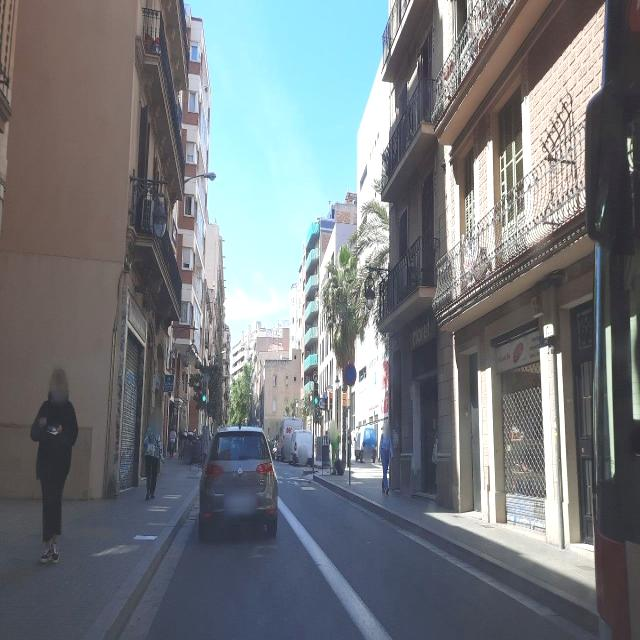car: (198, 424, 278, 541), (287, 429, 315, 468), (354, 424, 378, 464)
